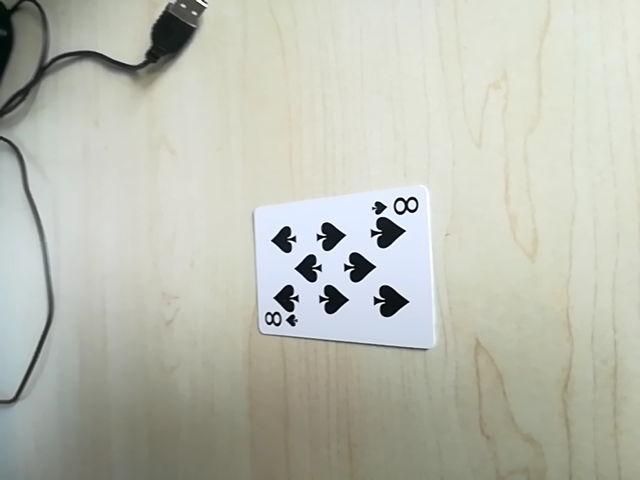ht 8: (373, 192, 427, 218), (259, 307, 300, 335)
